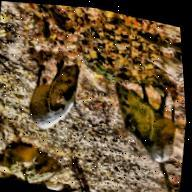boar: (102, 65, 189, 167), (17, 49, 95, 145)
